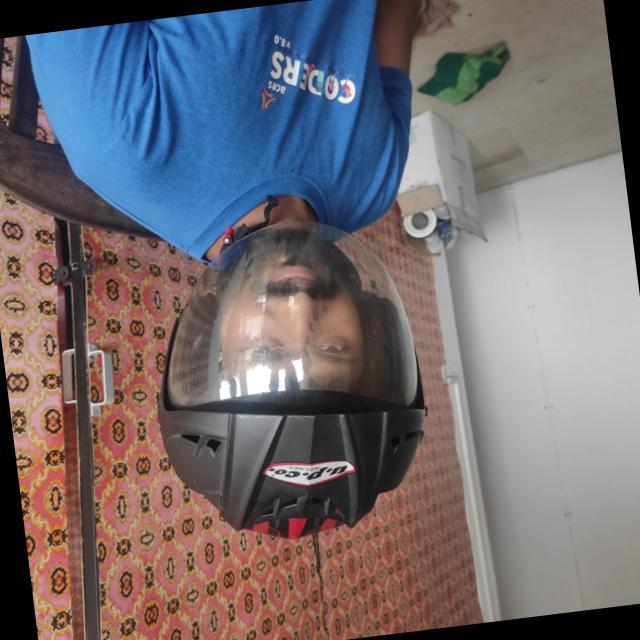WITH_HELMET: (142, 211, 441, 557)
